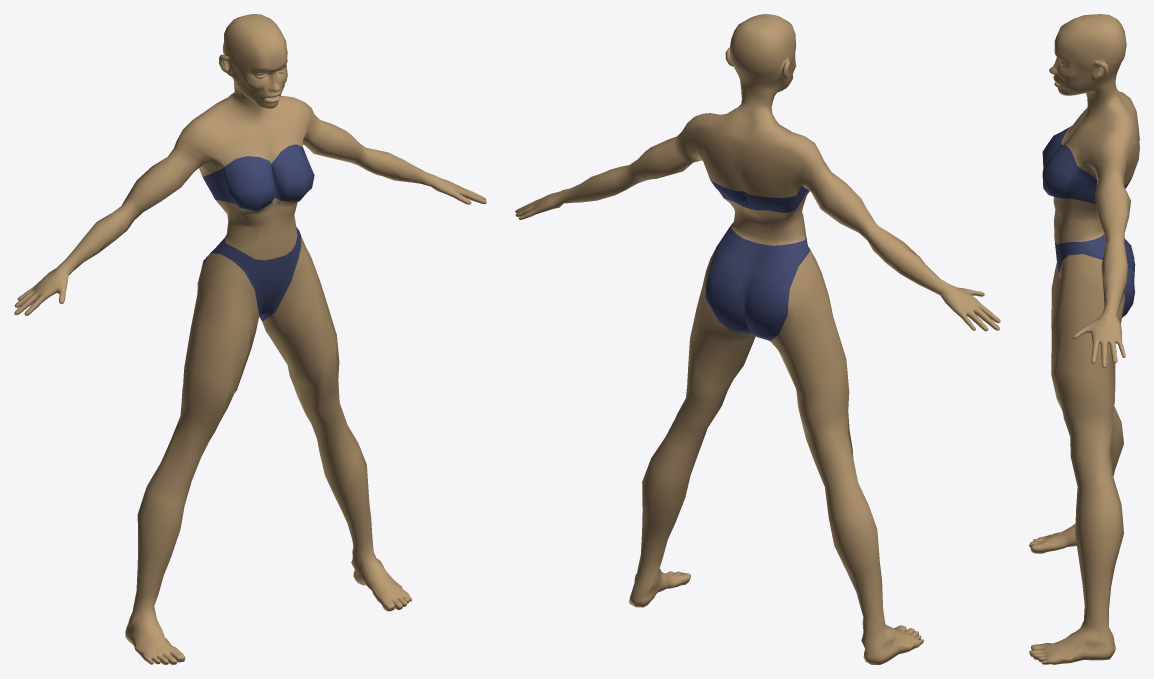
File: HeroineBase.obj
The picture shows the model from 3 angles, left to right: view 1: azimuth 30°, elevation 25°; view 2: azimuth 150°, elevation 25°; view 3: azimuth 270°, elevation 25°; orthographic projection. The views are drawn at different scales.
Parts seen in each view (by area): view 1: Heroine_Mesh; view 2: Heroine_Mesh; view 3: Heroine_Mesh.
Boxes of the visible parts, <box> form: Heroine_Mesh: <box>14,14,486,664</box>; Heroine_Mesh: <box>515,14,1000,664</box>; Heroine_Mesh: <box>1029,14,1139,664</box>.
Bounding box in the file's own units: 29.28 × 35.33 × 6.07.
